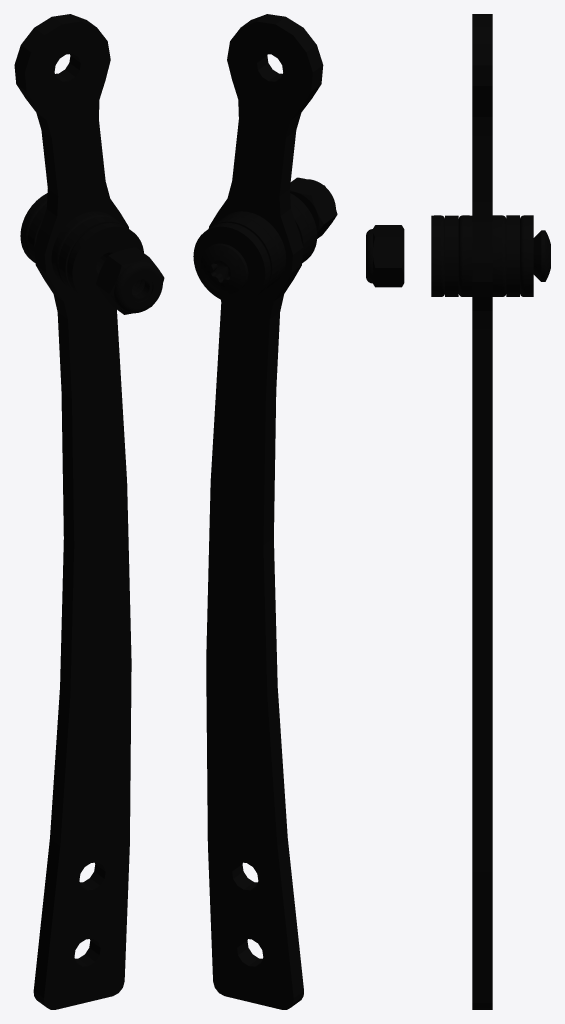
3 views of the same model, side by side, from view 1: azimuth 30°, elevation 25°; view 2: azimuth 150°, elevation 25°; view 3: azimuth 270°, elevation 25° (orthographic).
Parts seen in each view (by area): view 1: lf3; view 2: lf3; view 3: lf3.
Part boxes in pixels (<box>): lf3: <box>14,14,164,1009</box>; lf3: <box>193,14,337,1009</box>; lf3: <box>366,14,550,1009</box>.
Size of the model in its own units: 0.0089 by 0.0136 by 0.0784.
Materials: 1 (1 with a texture image).
